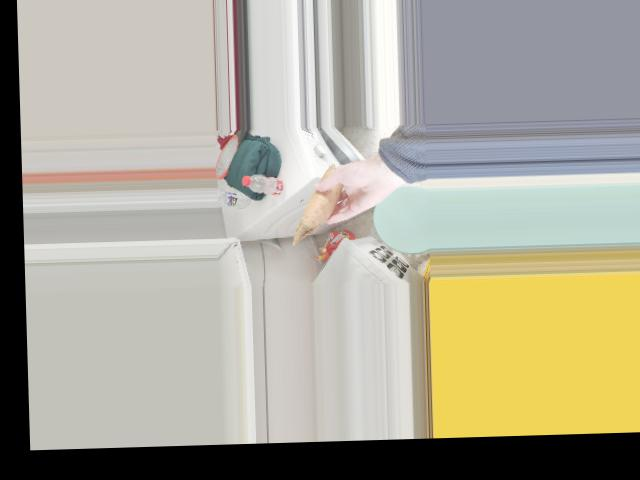sweet_potato: (302, 176, 342, 225)
